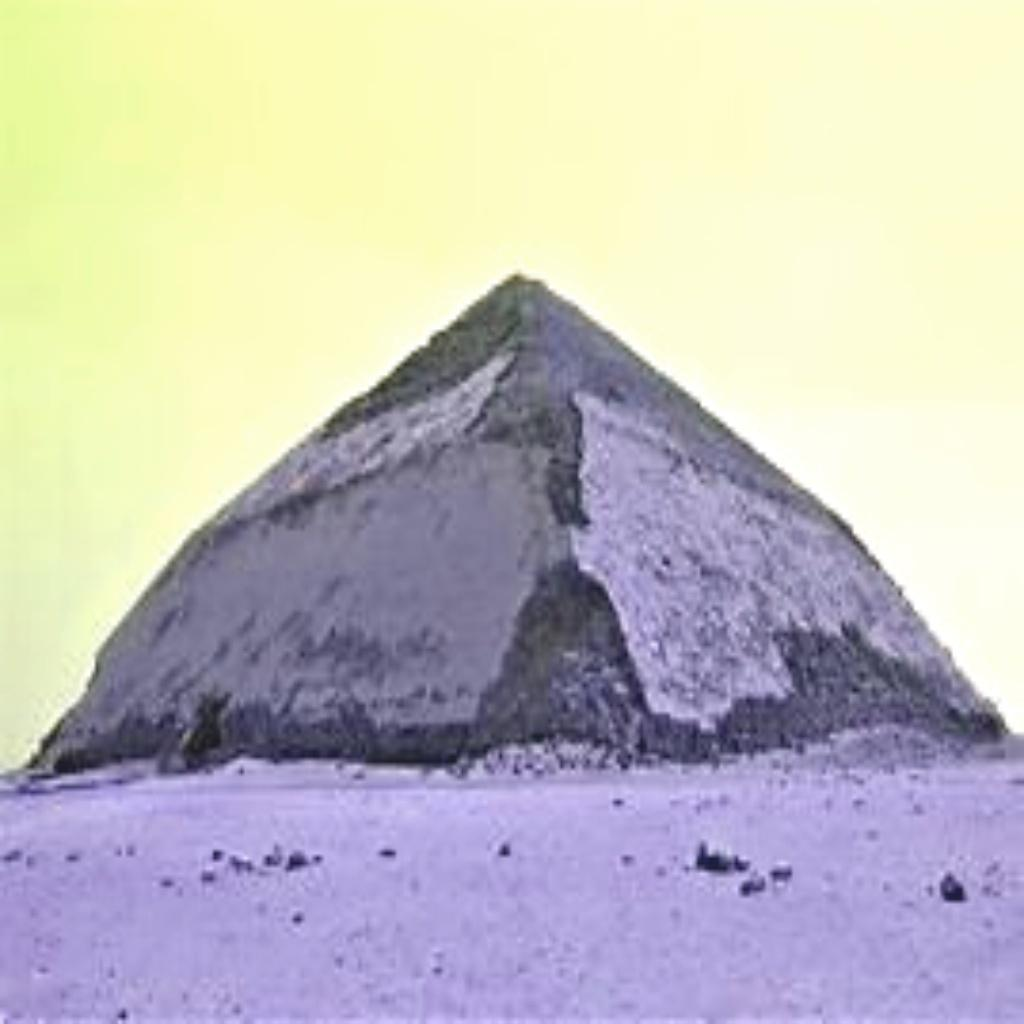Bent Pyramid of King Sneferu: (19, 260, 1009, 774)
